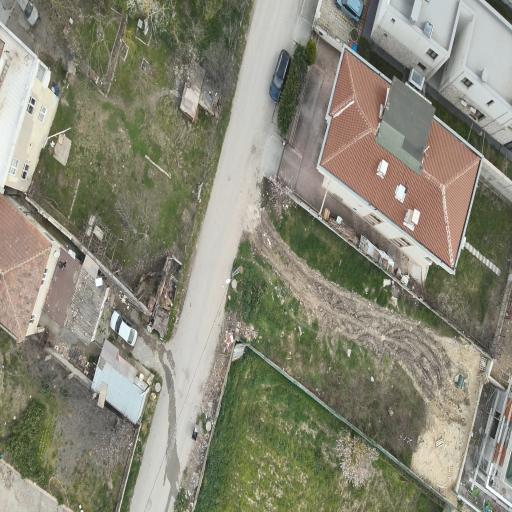car: (269, 50, 289, 102), (109, 311, 136, 346), (334, 0, 362, 22), (17, 0, 39, 27)
